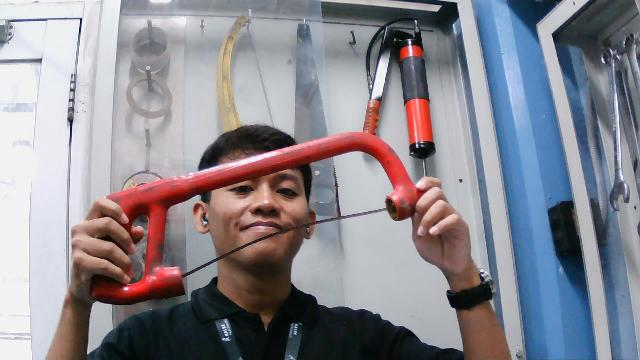gergaji_besi: (77, 131, 429, 308)
